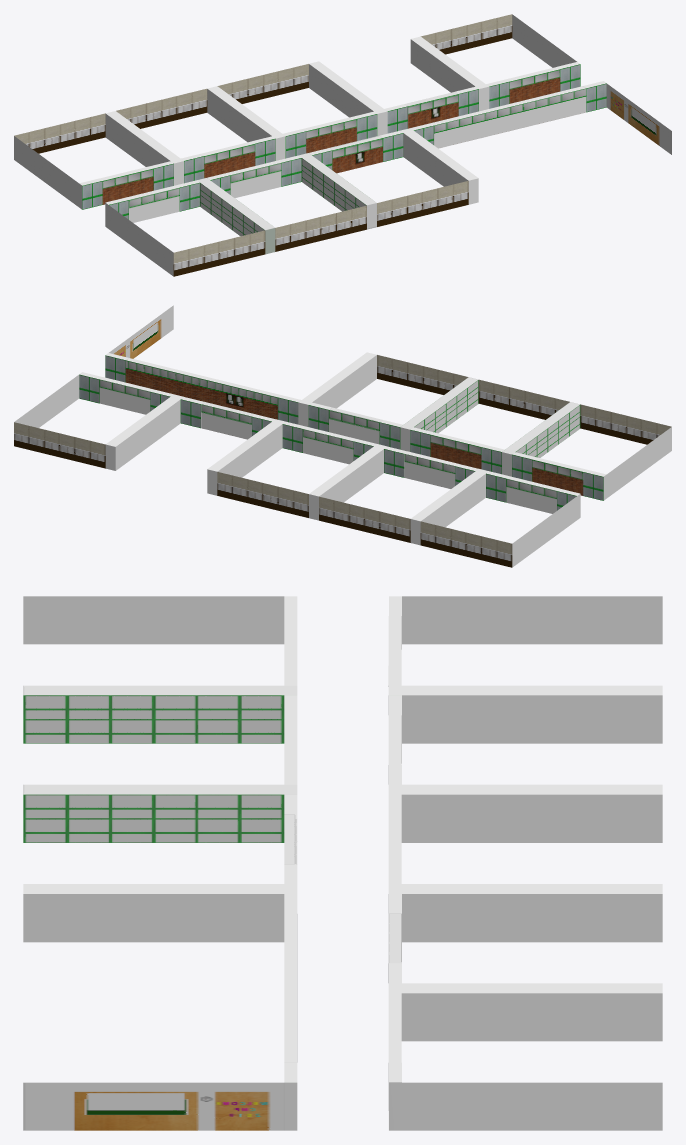
The picture shows the model from 3 angles, top to bottom: view 1: azimuth 30°, elevation 25°; view 2: azimuth 150°, elevation 25°; view 3: azimuth 270°, elevation 25°; orthographic projection. The views are drawn at different scales.
Parts seen in each view (by area): view 1: Class1-CorridorWall_Plane.027, Class4CurtainsWall_Plane.036, Class1-Class2Wall_Plane.047, Class2CurtainsWall_Plane.033, Class3CurtainsWall_Plane.034, Class3-Class4Wall_Plane.045, Class2-Class3Wall_Plane.046, Library-Lab1Wall_Plane.038, Lab2-Lab3Wall_Plane.029, Lab1-Lab2Wall_Plane.035, Lab3-Lab4Wall_Plane.044, Lab3CurtainsWall_Plane.040 (+29 smaller); view 2: Class1-CorridorWall_Plane.027, Library-Lab1Wall_Plane.038, Lab4CurtainsWall_Plane.039, Lab1-Lab2Wall_Plane.035, LibraryCurtains_Plane.043, Lab3CurtainsWall_Plane.040, Lab2CurtainsWall_Plane.041, Lab3-Lab4Wall_Plane.044, Class2-Class3Wall_Plane.046, Class1-Class2Wall_Plane.047, Lab2-Lab3Wall_Plane.029, Class3-Class4Wall_Plane.045 (+28 smaller); view 3: Lab2-Lab3Wall_Plane.029, Class2-Class3Wall_Plane.046, Library-Lab1Wall_Plane.038, Class3-Class4Wall_Plane.045, Class1-Class2Wall_Plane.047, Lab1-Lab2Wall_Plane.035, Lab3-Lab4Wall_Plane.044, Class4Wall_Plane.051, Class1Wall_Plane.030, LibraryWall_Plane.049, Lab4Wall_Plane.050, Class1-CorridorWall_Plane.027 (+2 smaller).
Boxes of the visible parts, x1,y1,x2,y2 form: Class1-CorridorWall_Plane.027: (431, 86, 586, 148); Class4CurtainsWall_Plane.036: (173, 230, 265, 276); Class1-Class2Wall_Plane.047: (400, 128, 478, 204); Class2CurtainsWall_Plane.033: (377, 181, 468, 226); Class3CurtainsWall_Plane.034: (275, 205, 366, 251); Class3-Class4Wall_Plane.045: (197, 178, 275, 254); Class2-Class3Wall_Plane.046: (299, 153, 376, 229); Library-Lab1Wall_Plane.038: (410, 36, 489, 111); Lab2-Lab3Wall_Plane.029: (207, 86, 285, 160); Lab1-Lab2Wall_Plane.035: (309, 61, 387, 135); Lab3-Lab4Wall_Plane.044: (105, 111, 183, 185); Lab3CurtainsWall_Plane.040: (116, 88, 207, 128); Class1-CorridorWall_Plane.027: (125, 358, 280, 419); Library-Lab1Wall_Plane.038: (105, 394, 183, 470); Lab4CurtainsWall_Plane.039: (420, 521, 512, 567); Lab1-Lab2Wall_Plane.035: (207, 419, 285, 495); LibraryCurtains_Plane.043: (14, 422, 105, 468); Lab3CurtainsWall_Plane.040: (319, 496, 410, 542); Lab2CurtainsWall_Plane.041: (217, 472, 308, 517); Lab3-Lab4Wall_Plane.044: (410, 469, 488, 545); Class2-Class3Wall_Plane.046: (400, 377, 478, 451); Class1-Class2Wall_Plane.047: (298, 352, 376, 426); Lab2-Lab3Wall_Plane.029: (309, 444, 387, 520); Class3-Class4Wall_Plane.045: (502, 402, 580, 476); Lab2-Lab3Wall_Plane.029: (388, 784, 662, 842); Class2-Class3Wall_Plane.046: (23, 784, 297, 842); Library-Lab1Wall_Plane.038: (388, 983, 662, 1041); Class3-Class4Wall_Plane.045: (23, 685, 297, 743); Class1-Class2Wall_Plane.047: (23, 884, 297, 942); Lab1-Lab2Wall_Plane.035: (388, 884, 662, 942); Lab3-Lab4Wall_Plane.044: (388, 685, 662, 743); Class4Wall_Plane.051: (23, 596, 284, 644); Class1Wall_Plane.030: (23, 1082, 284, 1130); LibraryWall_Plane.049: (401, 1082, 662, 1130); Lab4Wall_Plane.050: (402, 596, 662, 644); Class1-CorridorWall_Plane.027: (284, 913, 297, 1062).
Bounding box in the file's own units: 208 × 9.6 × 115.
Materials: 8 (8 with a texture image).
